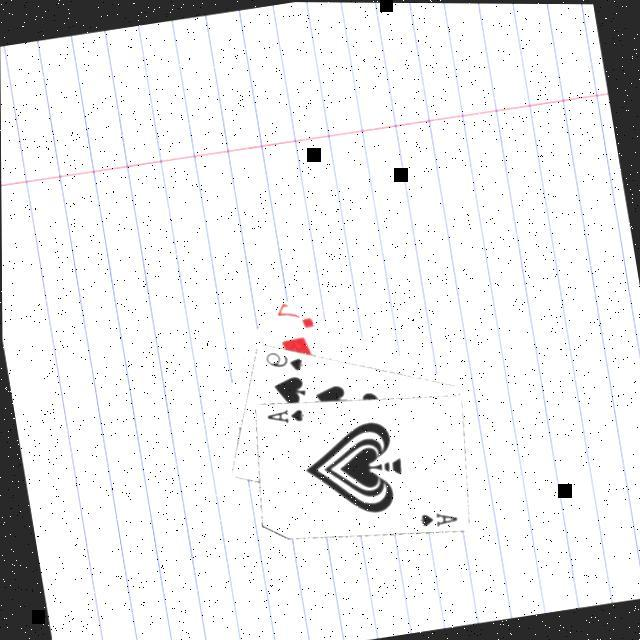7D: (268, 295, 315, 335)
9S: (258, 343, 305, 377)
AS: (412, 504, 459, 531), (259, 402, 305, 428)
